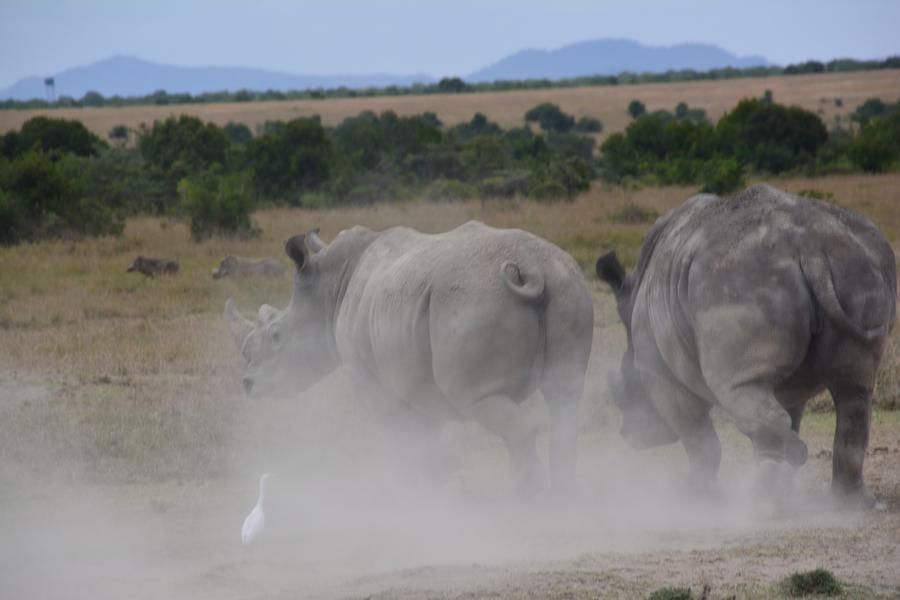rhino: (244, 225, 596, 470), (622, 181, 887, 478)
